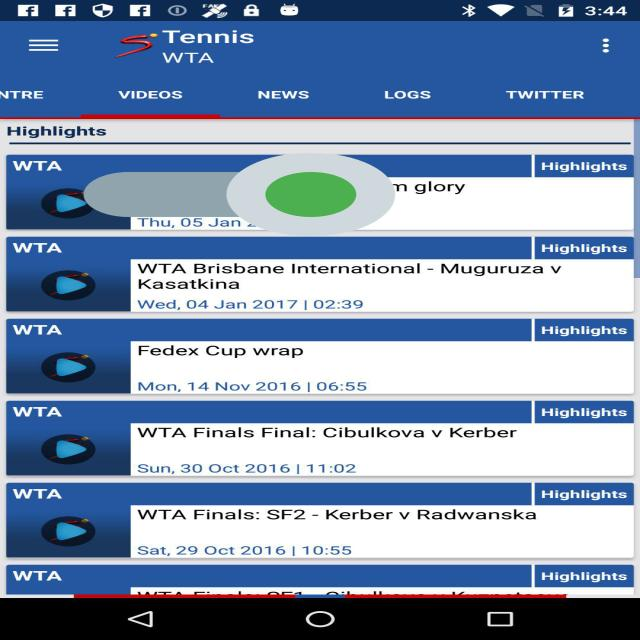social proof: (84, 117, 395, 272)
